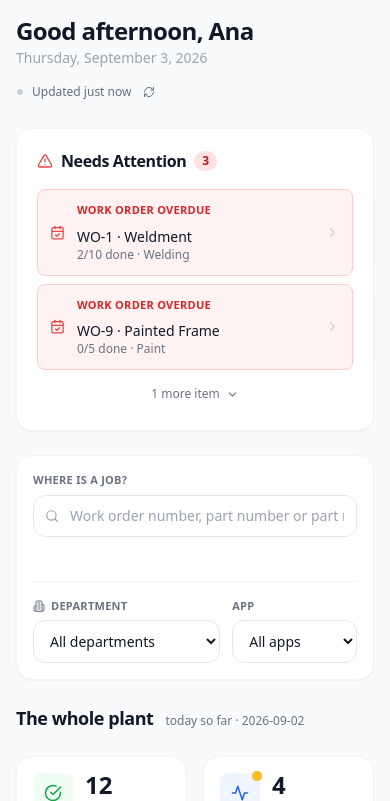
Scenario: the scope reaches every number on the page › moves every tile to the chosen department, and names it in the heading
The image size is (390, 801).
Select "Welding" in the dropdown labelled "Department" at (127, 642), box top-left (33, 620), bottom-right (220, 663)
(page scrolled)
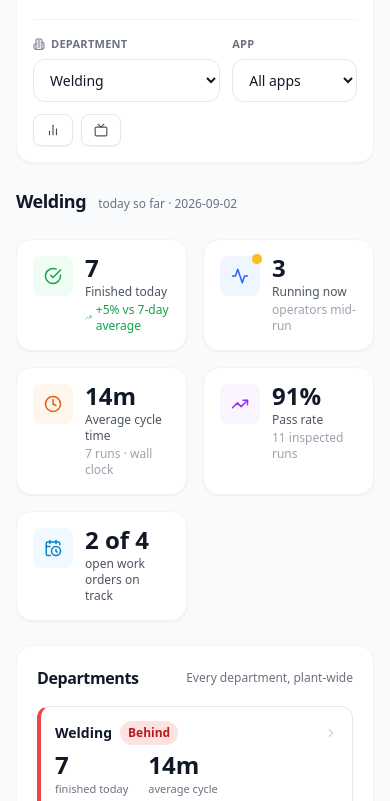
Expected: the element with test id "kpi-running-now" shows "3", top-left (272, 250), bottom-right (286, 284)
Expected: the element with test id "kpi-avg-cycle" shows "14m", top-left (85, 378), bottom-right (136, 412)
Expected: the element with test id "kpi-pass-rate" shows "91%", top-left (272, 378), bottom-right (321, 412)
